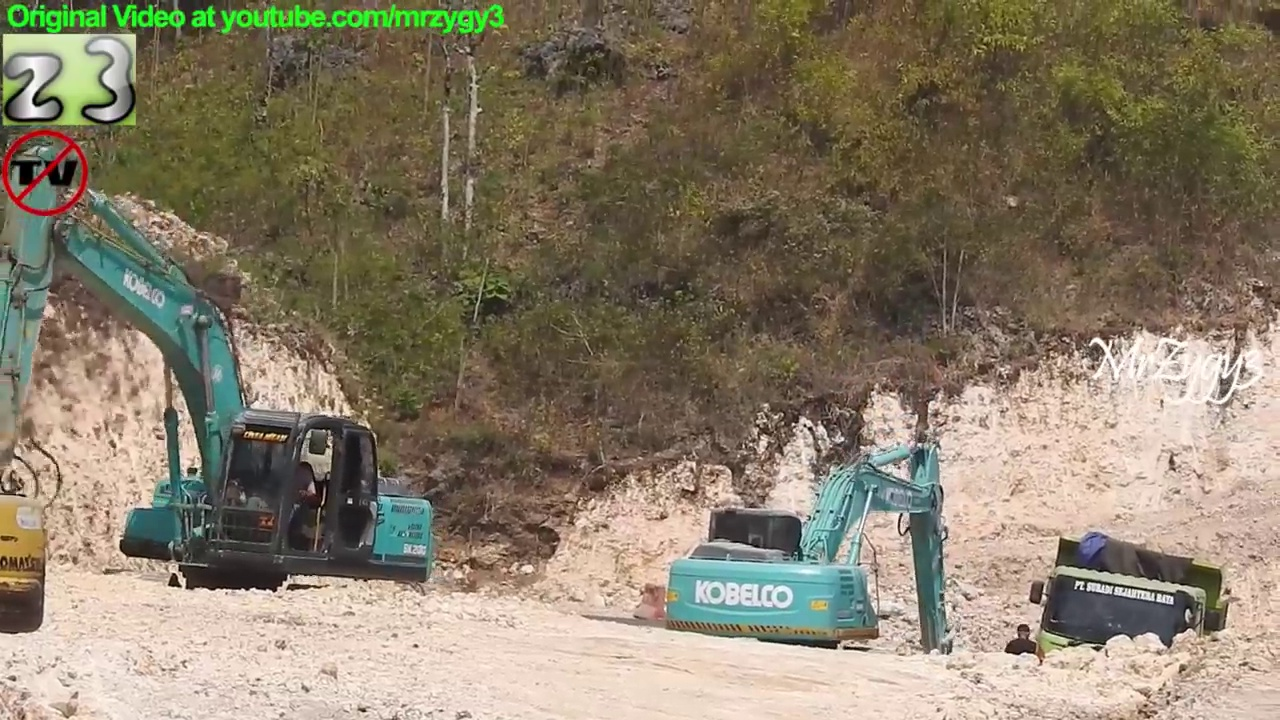excavator: (1, 132, 440, 627), (651, 420, 978, 703), (1, 476, 54, 643)
truck: (1026, 526, 1239, 720)
